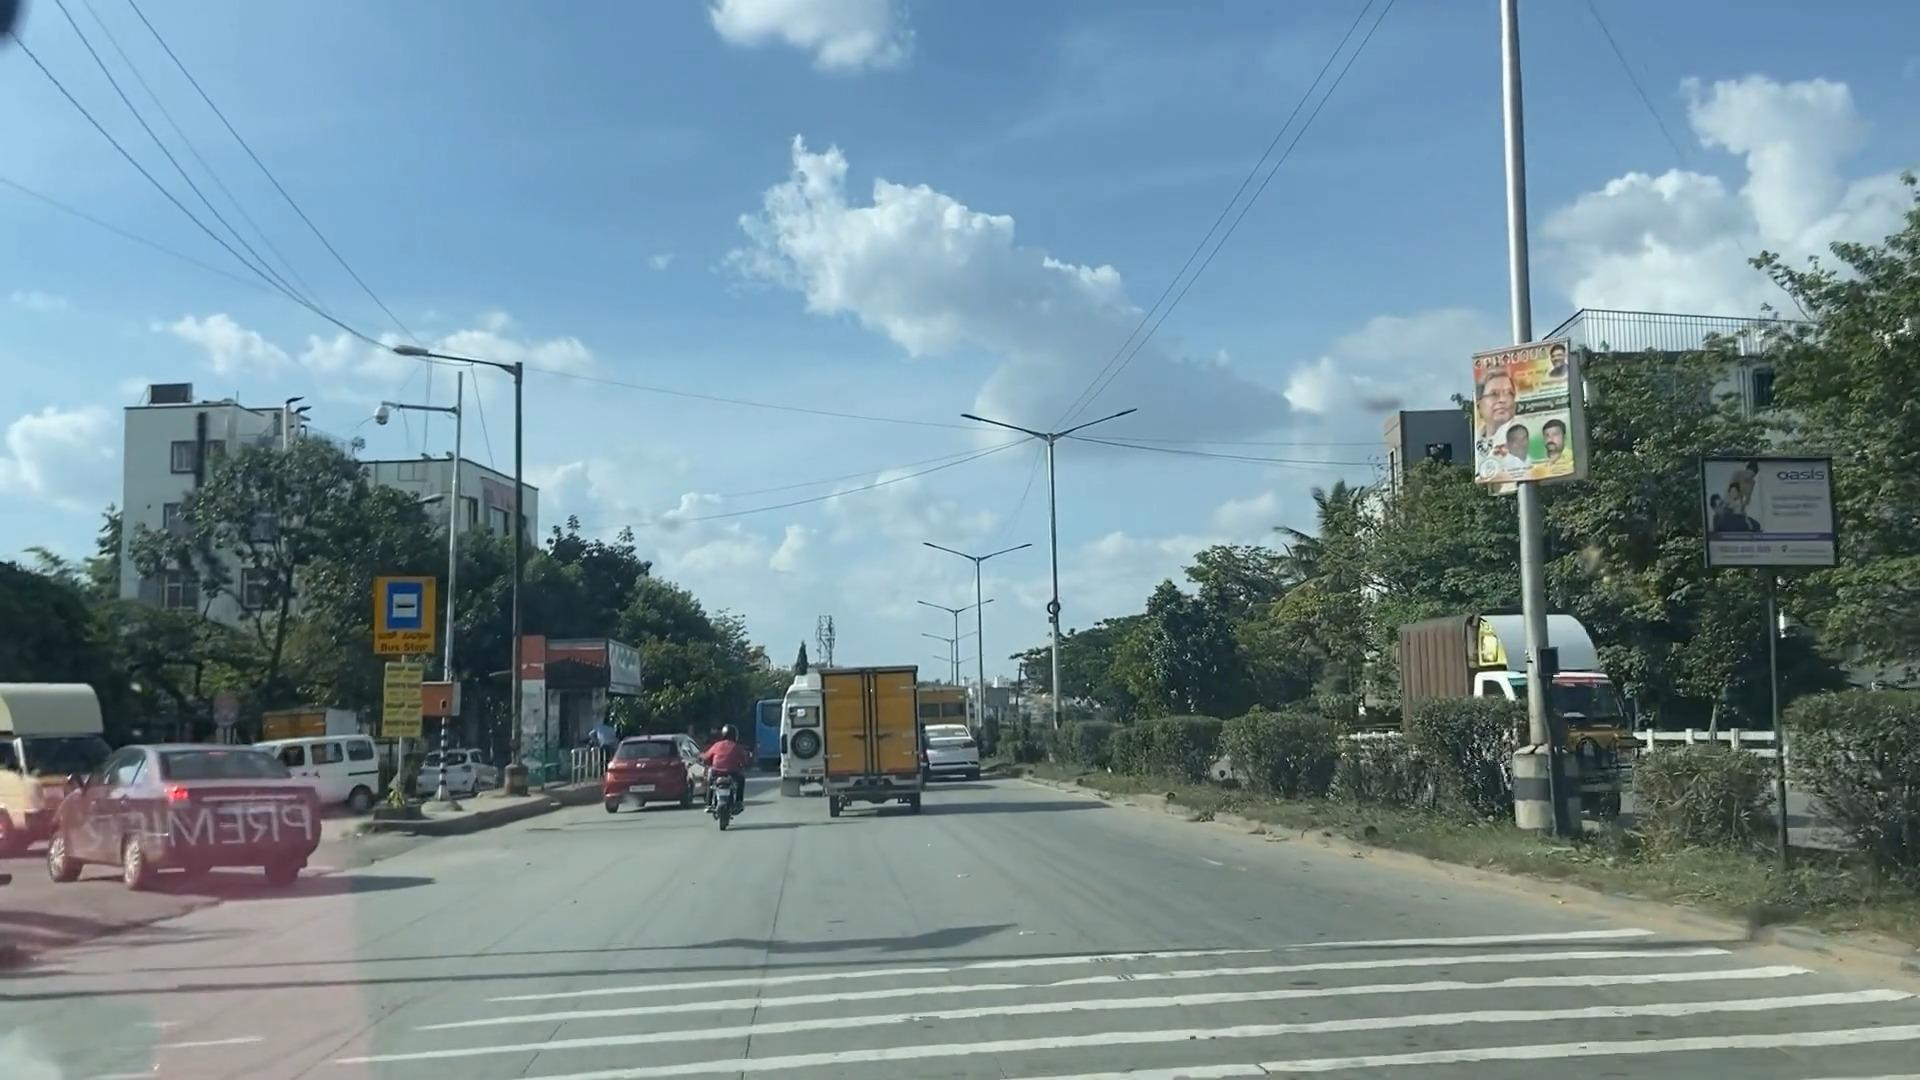HMV: (804, 673, 934, 802)
LMV: (46, 963, 1898, 1073), (41, 749, 330, 881), (556, 720, 698, 807), (696, 719, 745, 841)
